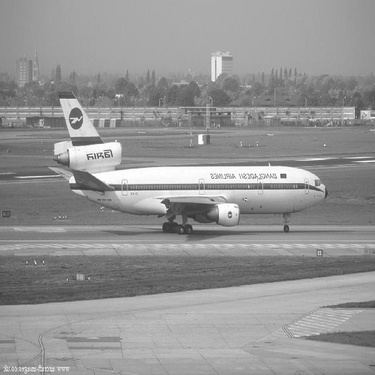airplane: (8, 79, 350, 223)
